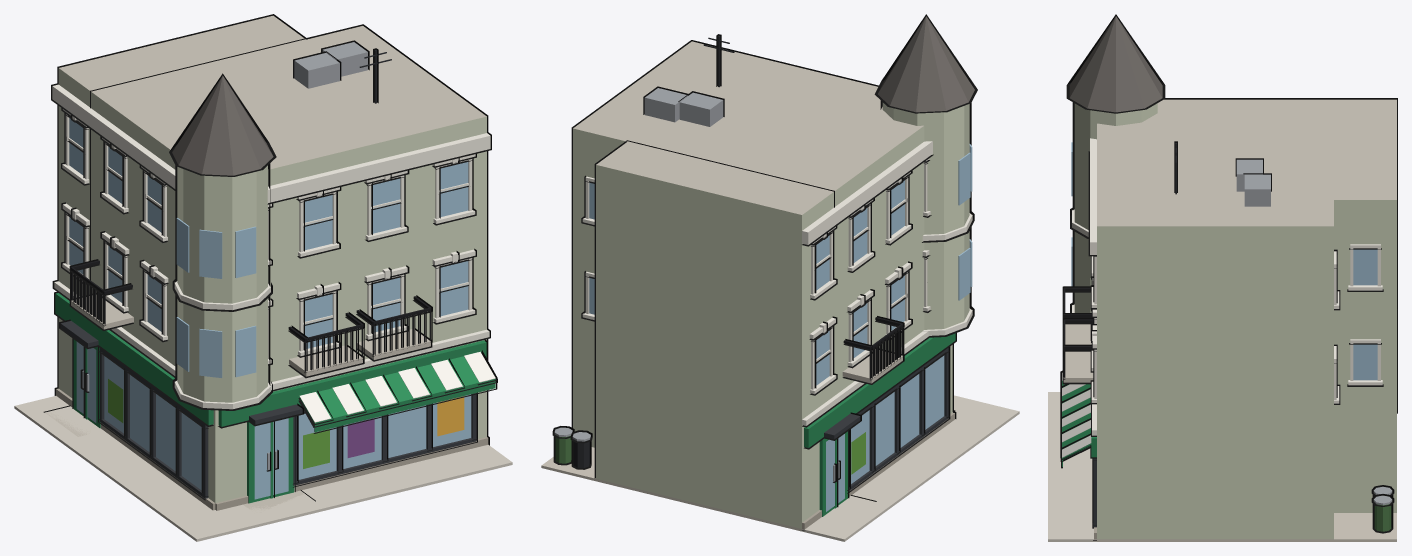
Rendered from Blok_kose_3k_1.fbx.
The picture shows the model from 3 angles, left to right: view 1: azimuth 30°, elevation 25°; view 2: azimuth 150°, elevation 25°; view 3: azimuth 270°, elevation 25°; orthographic projection. The views are drawn at different scales.
Parts seen in each view (by area): view 1: Blok_kose_3k_1; view 2: Blok_kose_3k_1; view 3: Blok_kose_3k_1.
Part boxes in pixels (<box>): Blok_kose_3k_1: <box>14,14,512,541</box>; Blok_kose_3k_1: <box>541,14,1019,541</box>; Blok_kose_3k_1: <box>1048,14,1397,541</box>.
Size of the model in its own units: 10.03 by 13.01 by 10.03.
